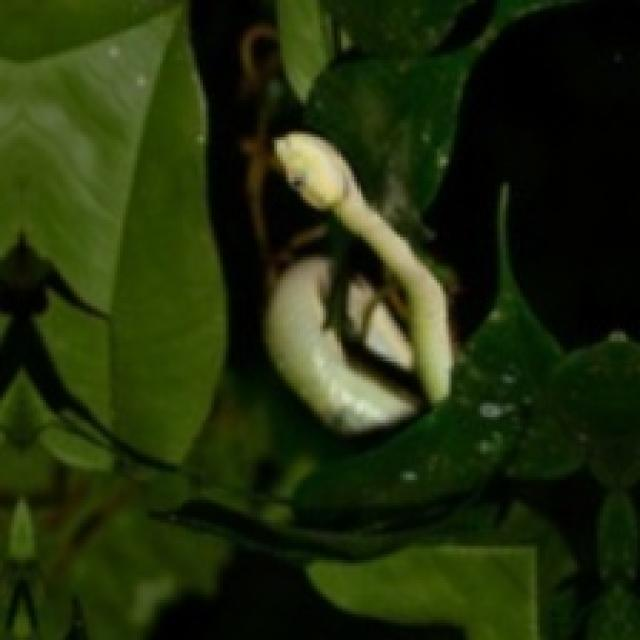north ph temple pitviper: (263, 131, 451, 431), (274, 131, 451, 400), (266, 257, 414, 431)
